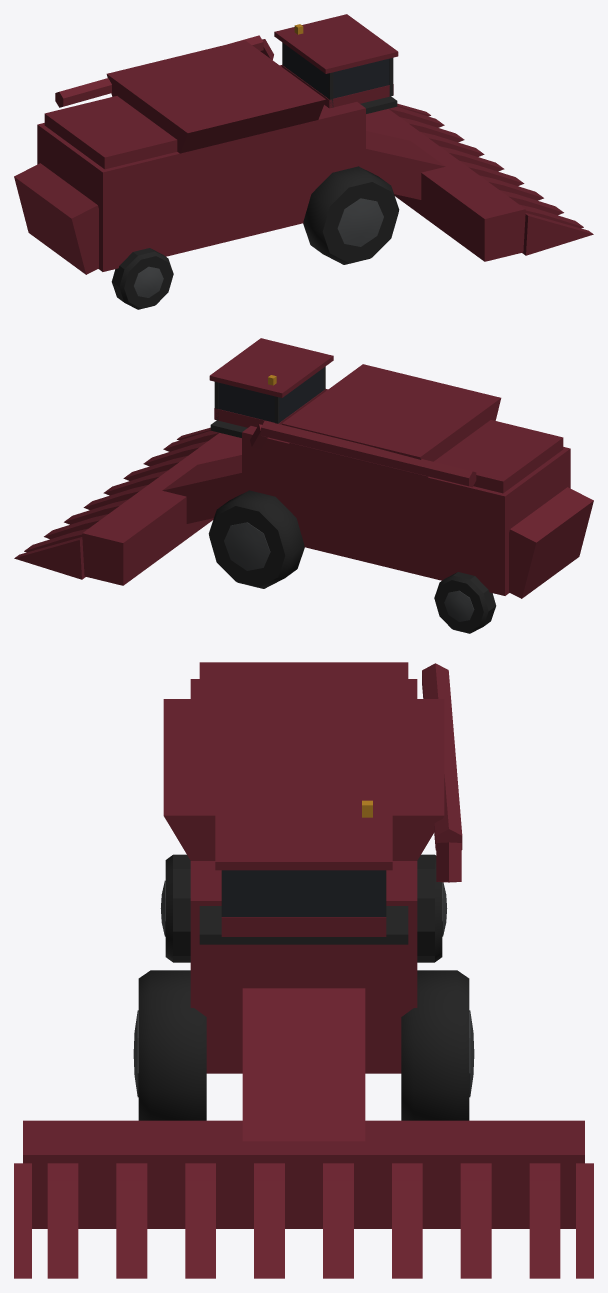
File: SM_Prop_farm_combine_4_LOD1.glb
3 views of the same model, one above another, from view 1: azimuth 30°, elevation 25°; view 2: azimuth 150°, elevation 25°; view 3: azimuth 270°, elevation 25° (orthographic). The views are drawn at different scales.
Visible parts, largest first — view 1: SM_Prop_farm_combine_4_LOD1; view 2: SM_Prop_farm_combine_4_LOD1; view 3: SM_Prop_farm_combine_4_LOD1.
Boxes of the visible parts, left/top/right/bottom form: SM_Prop_farm_combine_4_LOD1: left=14, top=14, right=593, bottom=309; SM_Prop_farm_combine_4_LOD1: left=14, top=338, right=593, bottom=633; SM_Prop_farm_combine_4_LOD1: left=14, top=662, right=593, bottom=1278.
Size of the model in its own units: 10.3 by 4 by 6.4.
